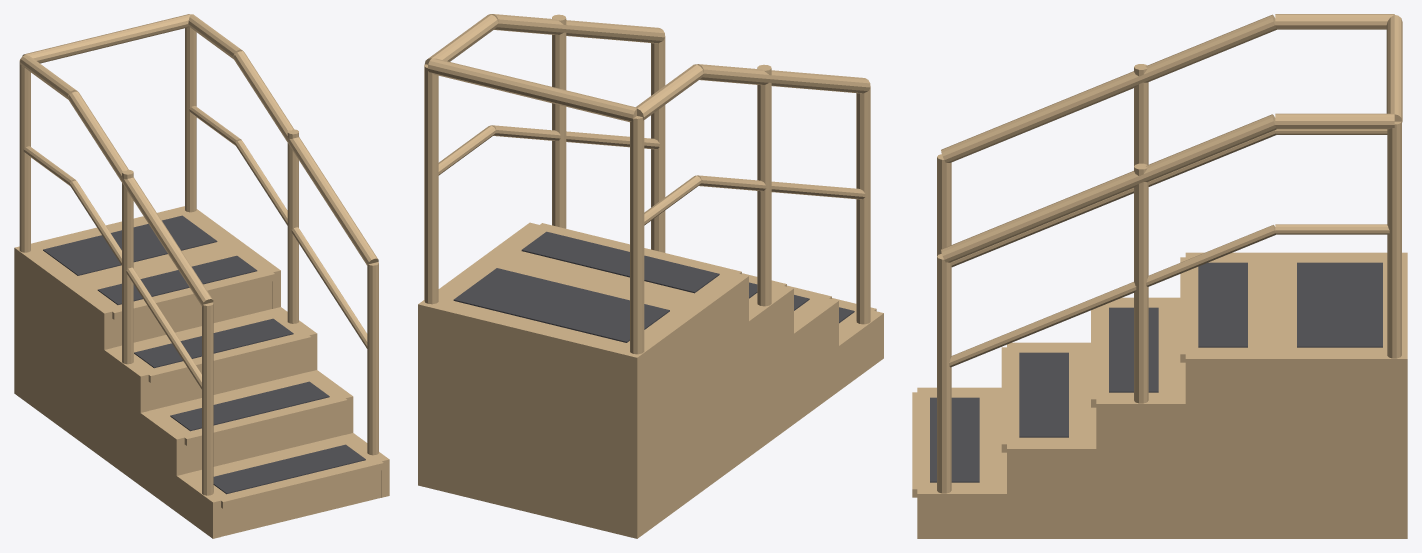
The model's file is Rehabilitation_Room_stair1.fbx.
3 views of the same model, side by side, from view 1: azimuth 30°, elevation 25°; view 2: azimuth 150°, elevation 25°; view 3: azimuth 270°, elevation 25° (orthographic). The views are drawn at different scales.
Parts seen in each view (by area): view 1: 03_RehabStairs_Intact_Mesh; view 2: 03_RehabStairs_Intact_Mesh; view 3: 03_RehabStairs_Intact_Mesh.
Boxes of the visible parts, <box> form: 03_RehabStairs_Intact_Mesh: <box>14,14,389,538</box>; 03_RehabStairs_Intact_Mesh: <box>418,14,883,538</box>; 03_RehabStairs_Intact_Mesh: <box>912,14,1407,538</box>.
Bounding box in the file's own units: 76 × 140 × 150.
